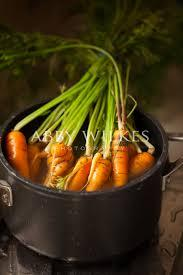Organic: (4, 40, 183, 201)
